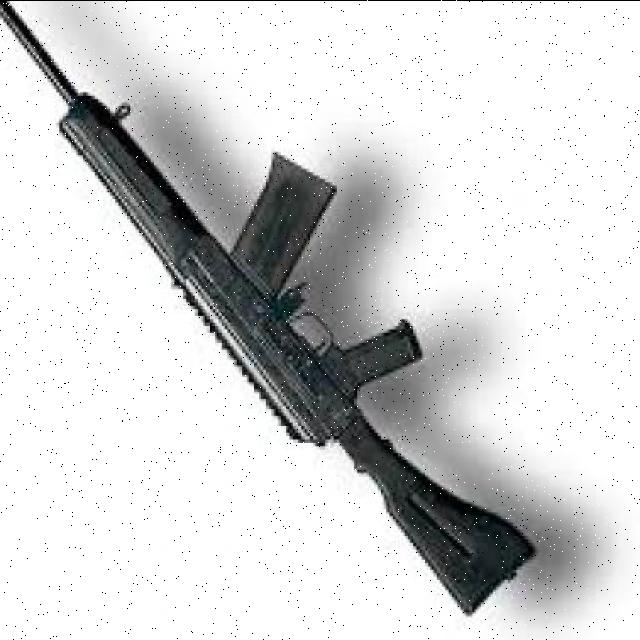Rifle: (0, 0, 532, 609)
